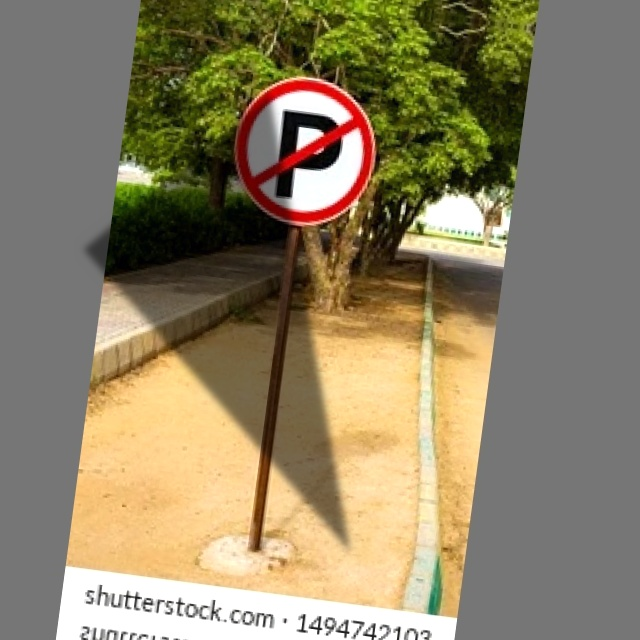No_Parking: (225, 71, 384, 236)
